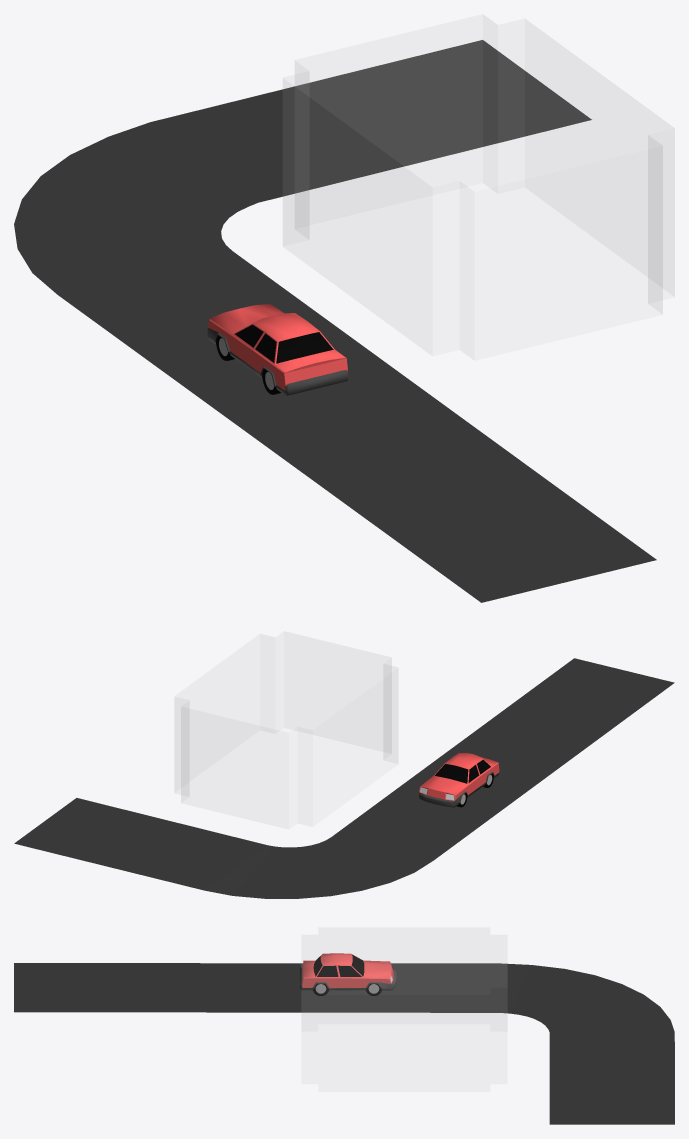
3 views of the same model, one above another, from view 1: azimuth 30°, elevation 25°; view 2: azimuth 150°, elevation 25°; view 3: azimuth 270°, elevation 25° (orthographic). The views are drawn at different scales.
Visible parts, largest first — view 1: Circle.003, building_034, Car_Cube.001; view 2: Circle.003, building_034, Car_Cube.001; view 3: Circle.003, building_034, Car_Cube.001.
Boxes of the visible parts, x1=… form: Circle.003: x1=14, y1=40, x2=656, y2=602; building_034: x1=283, y1=14, x2=674, y2=313; Car_Cube.001: x1=207, y1=304, x2=347, y2=395; Circle.003: x1=14, y1=658, x2=674, y2=898; building_034: x1=175, y1=632, x2=397, y2=802; Car_Cube.001: x1=419, y1=753, x2=499, y2=807; Circle.003: x1=14, y1=963, x2=674, y2=1124; building_034: x1=302, y1=928, x2=506, y2=1031; Car_Cube.001: x1=300, y1=953, x2=396, y2=995.
Bounding box in the file's own units: 13.8 × 3.88 × 23.8.
